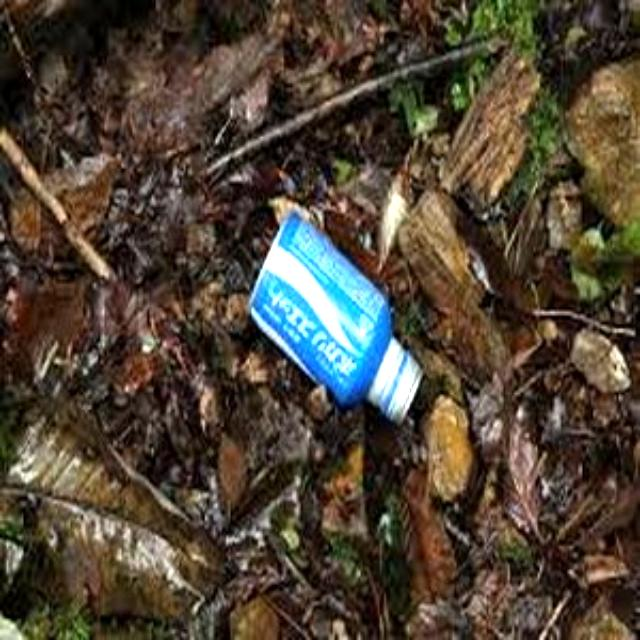Metal: (256, 208, 418, 430)
